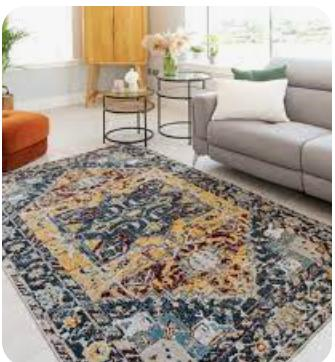carpet: (3, 146, 332, 362)
